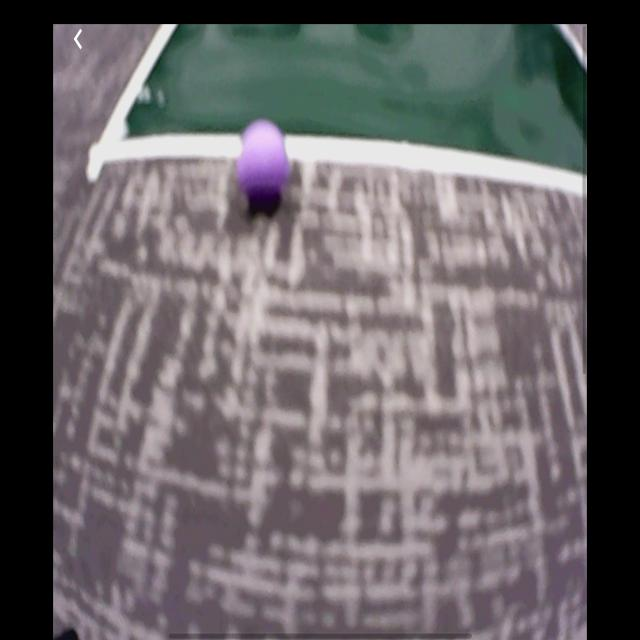ball: (237, 118, 291, 217)
